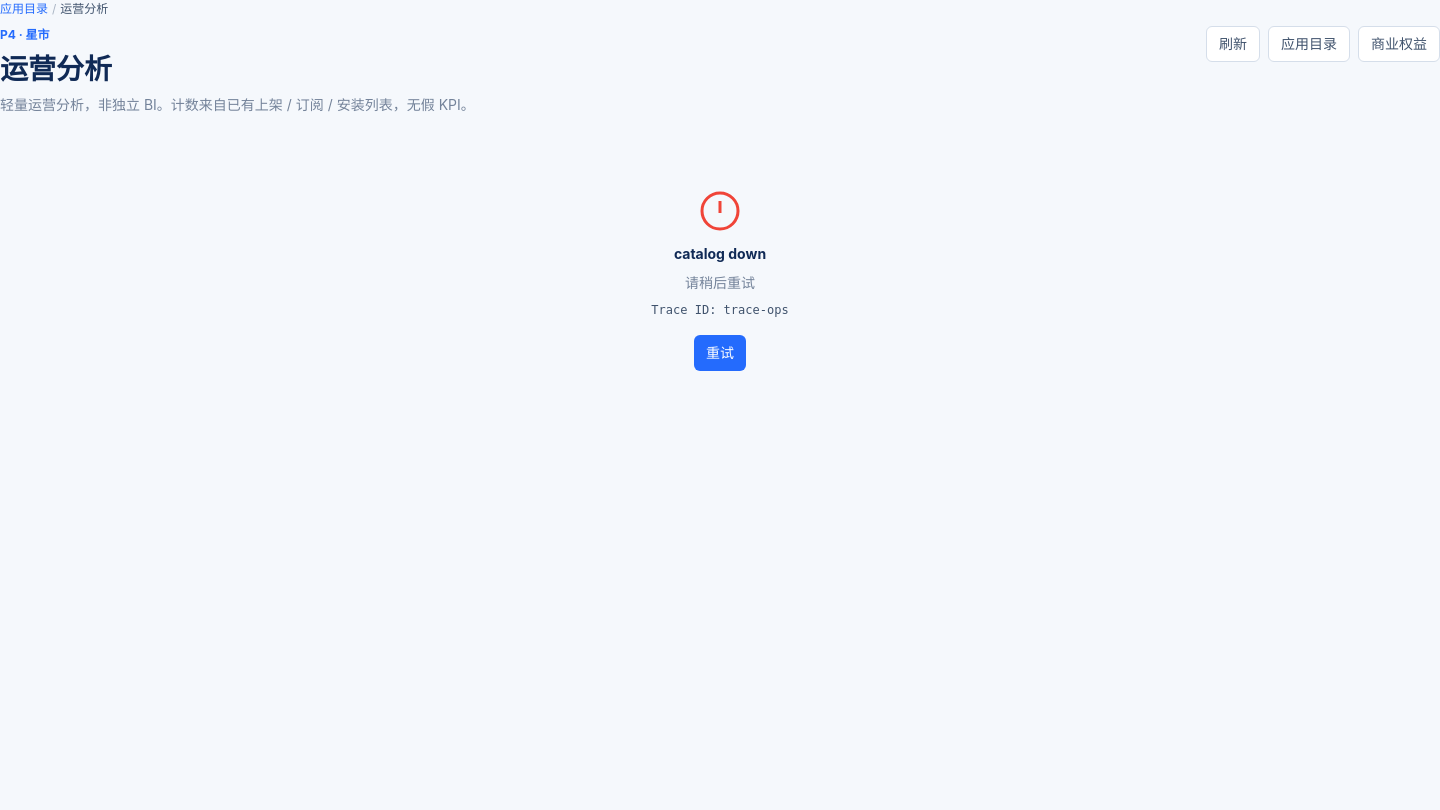
it: operations analytics (XB3/XB5) › surfaces catalog errors with retry
Expected: the message with test id "operations-error" shows "catalog down", [674, 245, 766, 262]
Click the button "重试". click: (720, 353)
box: [694, 335, 746, 371]
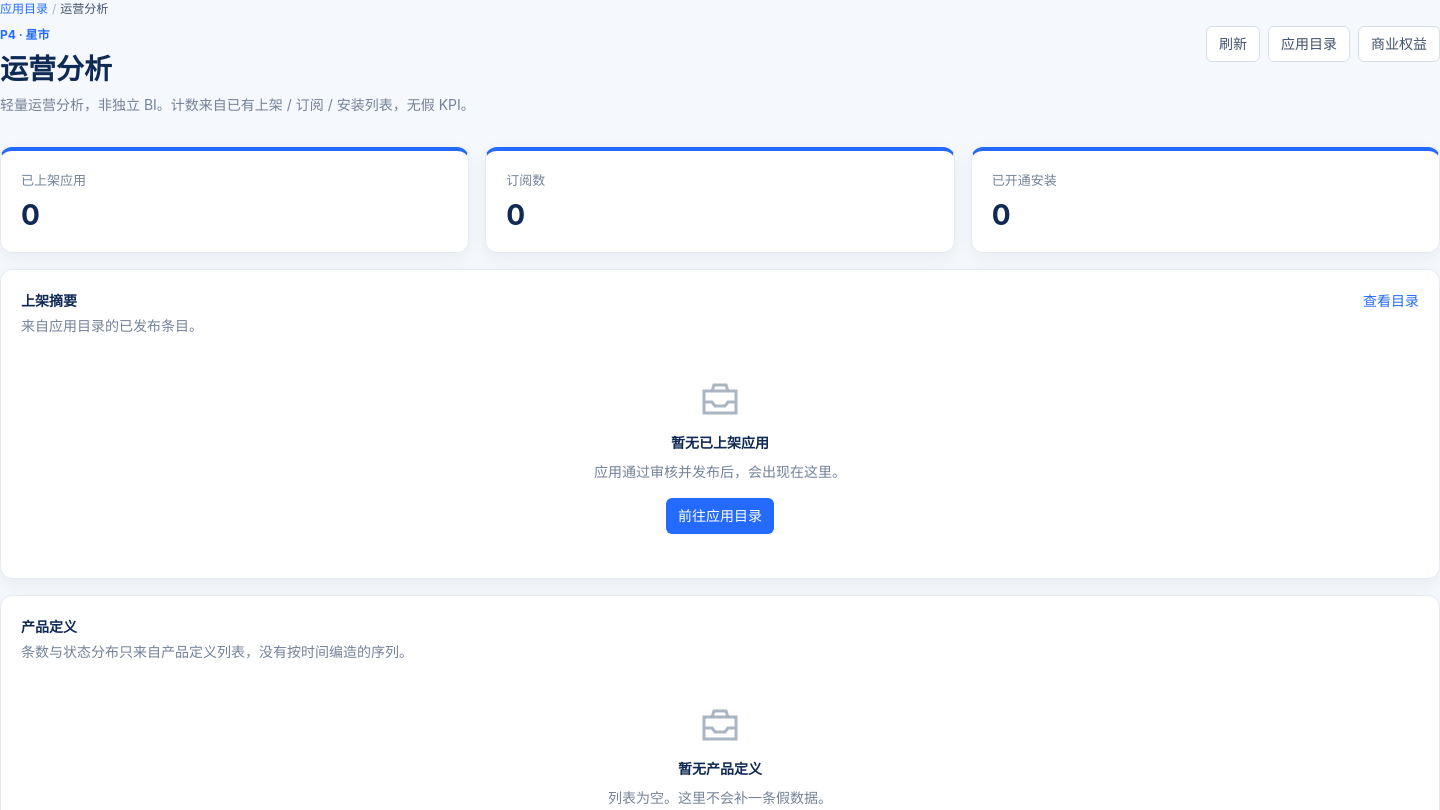
Expected: the message "暂无已上架应用 应用通过审核并发布后，会出现在这里。 前往应用目录" is shown, [594, 376, 846, 534]
